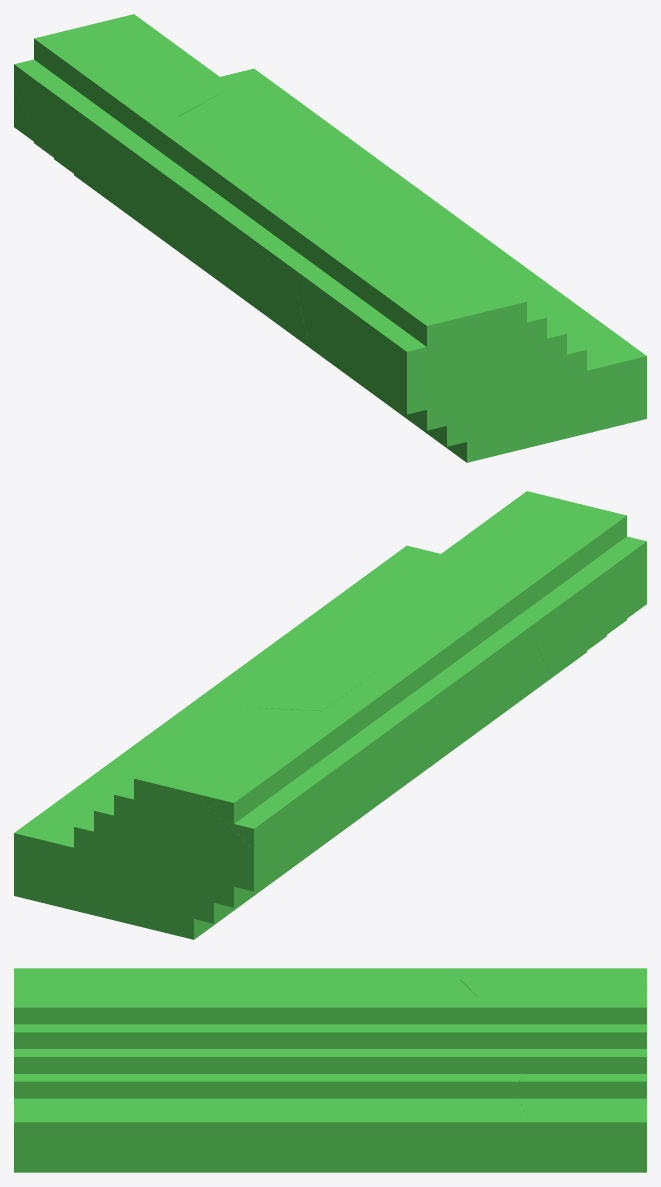
Rendered from Mouth.fbx.
The picture shows the model from 3 angles, top to bottom: view 1: azimuth 30°, elevation 25°; view 2: azimuth 150°, elevation 25°; view 3: azimuth 270°, elevation 25°; orthographic projection. The views are drawn at different scales.
Parts seen in each view (by area): view 1: model_0_cell.001, model_0_cell.007, model_0_cell, model_0_cell.004, model_0_cell.006, model_0_cell.008, model_0_cell.002, model_0_cell.003, model_0_cell.005, model_0_cell.009; view 2: model_0_cell.003, model_0_cell.001, model_0_cell, model_0_cell.004, model_0_cell.006, model_0_cell.008, model_0_cell.002, model_0_cell.005, model_0_cell.007, model_0_cell.009; view 3: model_0_cell.008, model_0_cell.001, model_0_cell.003, model_0_cell.007, model_0_cell.009, model_0_cell.005, model_0_cell, model_0_cell.004, model_0_cell.006.
Boxes of the visible parts, bbox=[...] form: model_0_cell.001: bbox=[296, 206, 543, 441]; model_0_cell.007: bbox=[424, 288, 646, 462]; model_0_cell: bbox=[14, 28, 232, 235]; model_0_cell.004: bbox=[216, 160, 396, 291]; model_0_cell.006: bbox=[111, 116, 274, 321]; model_0_cell.008: bbox=[179, 86, 389, 200]; model_0_cell.002: bbox=[206, 202, 364, 387]; model_0_cell.003: bbox=[14, 14, 326, 233]; model_0_cell.005: bbox=[442, 228, 569, 304]; model_0_cell.009: bbox=[384, 164, 472, 239]; model_0_cell.003: bbox=[14, 762, 276, 939]; model_0_cell.001: bbox=[354, 502, 646, 726]; model_0_cell: bbox=[157, 706, 365, 880]; model_0_cell.004: bbox=[335, 586, 537, 681]; model_0_cell.006: bbox=[276, 667, 446, 879]; model_0_cell.008: bbox=[87, 631, 381, 785]; model_0_cell.002: bbox=[395, 643, 549, 792]; model_0_cell.005: bbox=[233, 601, 354, 678]; model_0_cell.007: bbox=[330, 491, 626, 673]; model_0_cell.009: bbox=[145, 673, 269, 737]; model_0_cell.008: bbox=[275, 979, 529, 1154]; model_0_cell.001: bbox=[14, 968, 244, 1112]; model_0_cell.003: bbox=[518, 984, 646, 1172]; model_0_cell.007: bbox=[14, 989, 139, 1172]; model_0_cell.009: bbox=[284, 1084, 531, 1172]; model_0_cell.005: bbox=[127, 1070, 294, 1172]; model_0_cell: bbox=[460, 968, 646, 1079]; model_0_cell.004: bbox=[193, 968, 362, 1075]; model_0_cell.006: bbox=[353, 968, 459, 979].
Size of the model in its own units: 120 by 70 by 340.
